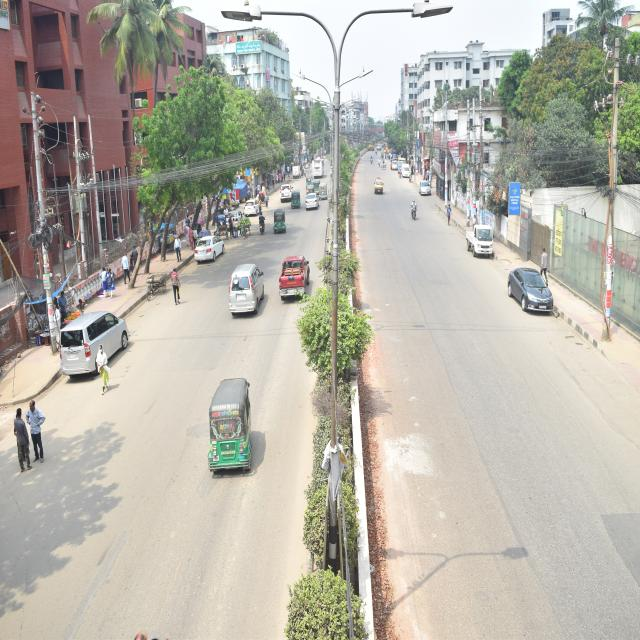car: (60, 307, 132, 378), (507, 263, 558, 319), (280, 252, 310, 305), (193, 235, 226, 261), (242, 196, 261, 218), (278, 180, 292, 205), (306, 191, 320, 212)
microbus: (228, 262, 265, 315)
motorbike: (256, 212, 268, 236), (410, 199, 418, 223)
pickup-van: (464, 224, 496, 257), (373, 170, 384, 200)
